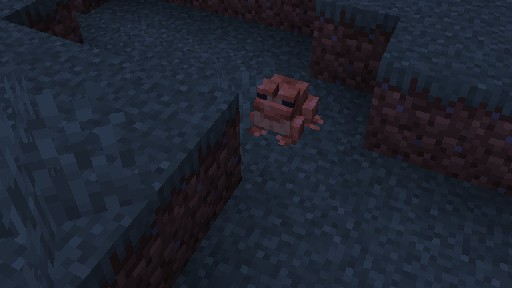frog: (245, 73, 324, 147)
